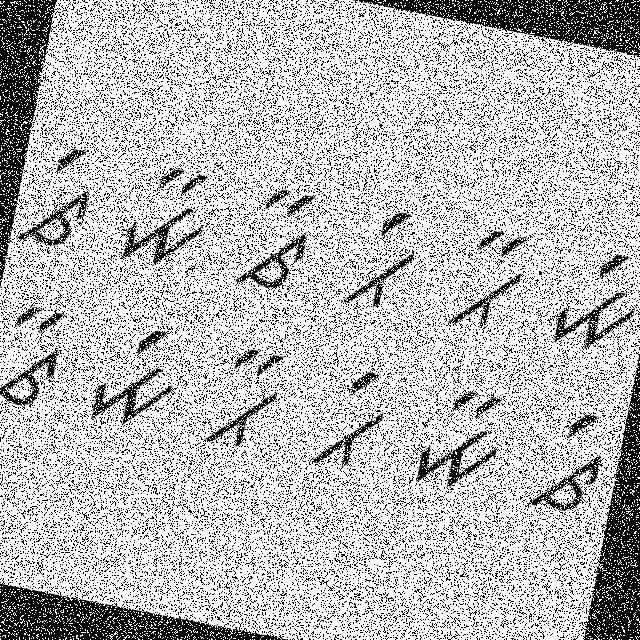ban: (437, 218, 532, 342), (201, 342, 292, 458)
bang: (332, 189, 430, 319), (304, 358, 398, 487)
can: (220, 173, 324, 300), (0, 293, 77, 422)
cang: (518, 396, 620, 528), (13, 132, 108, 261)
man: (108, 144, 226, 280), (408, 378, 514, 502)
mang: (76, 308, 189, 438), (536, 233, 639, 366)
